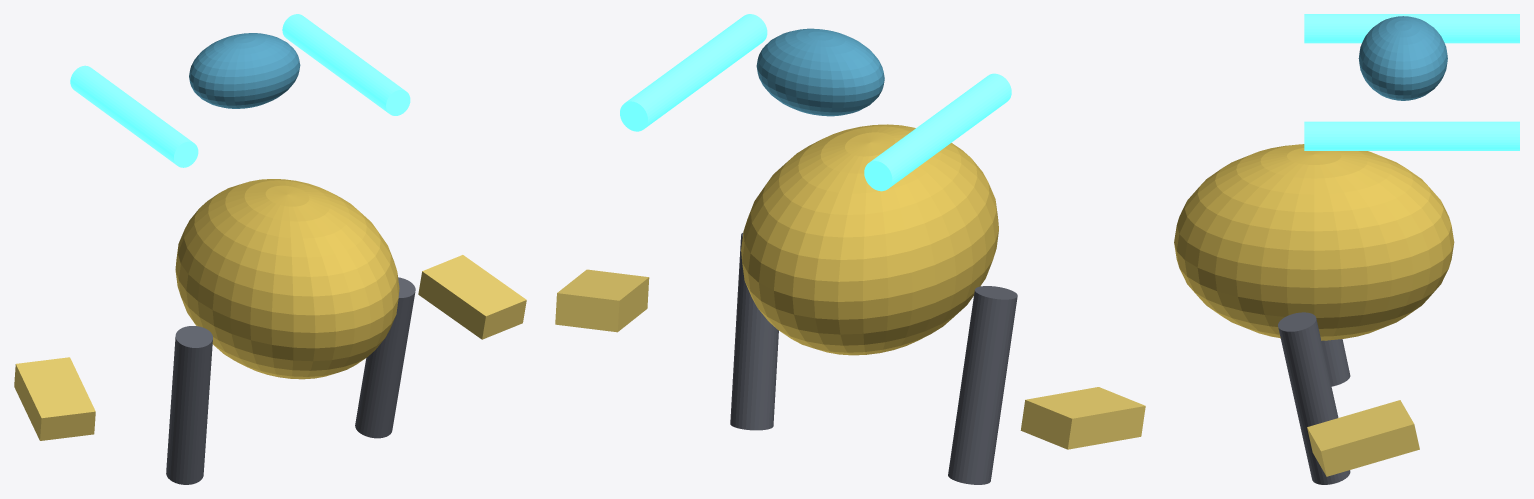
Rendered from CO_KamakiriWalker_LOD0.glb.
3 renders of one model, left to right at view 1: azimuth 30°, elevation 25°; view 2: azimuth 150°, elevation 25°; view 3: azimuth 270°, elevation 25°, orthographic. The views are drawn at different scales.
Visible parts, largest first — view 1: Sphere, Sphere.001, Cylinder, Cube.001, Cube, Cylinder.001, Cylinder.002, Cylinder.003; view 2: Sphere, Sphere.001, Cylinder, Cube, Cylinder.001, Cylinder.002, Cylinder.003, Cube.001; view 3: Sphere, Cylinder.003, Sphere.001, Cube.001, Cylinder.001, Cylinder.002, Cylinder.
Part boxes in pixels (x1,y1,x2,y2): Sphere: (175,179,399,379); Sphere.001: (189,33,300,108); Cylinder: (166,326,212,484); Cube.001: (418,255,526,339); Cube: (14,357,95,440); Cylinder.001: (355,277,415,438); Cylinder.002: (70,65,198,167); Cylinder.003: (282,14,410,115); Sphere: (741,124,998,355); Sphere.001: (756,28,884,116); Cylinder: (948,286,1017,484); Cube: (1020,387,1145,449); Cylinder.001: (730,233,778,430); Cylinder.002: (864,73,1011,191); Cylinder.003: (620,14,767,131); Cube.001: (555,269,649,332); Sphere: (1174,144,1454,340); Cylinder.003: (1304,121,1519,150); Sphere.001: (1358,16,1447,100); Cube.001: (1307,400,1419,476); Cylinder.001: (1278,312,1350,484); Cylinder.002: (1304,14,1519,43); Cylinder: (1321,339,1350,386).
Size of the model in its own units: 5.95 by 4.57 by 3.53.
